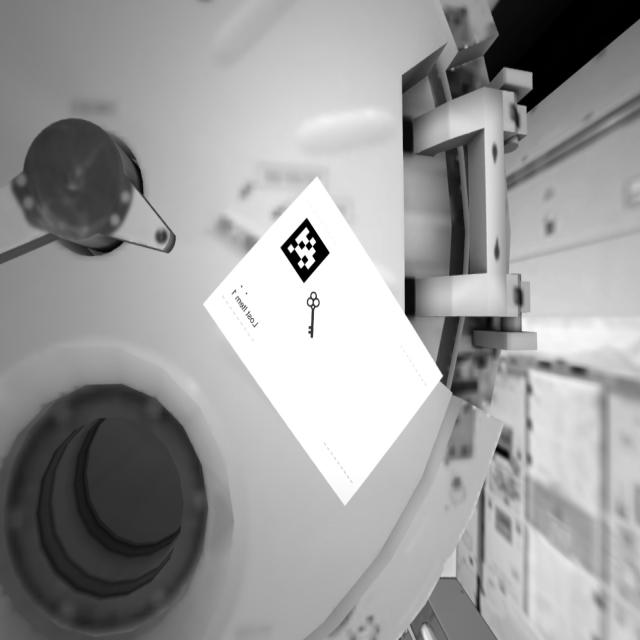key: (303, 284, 328, 349)
